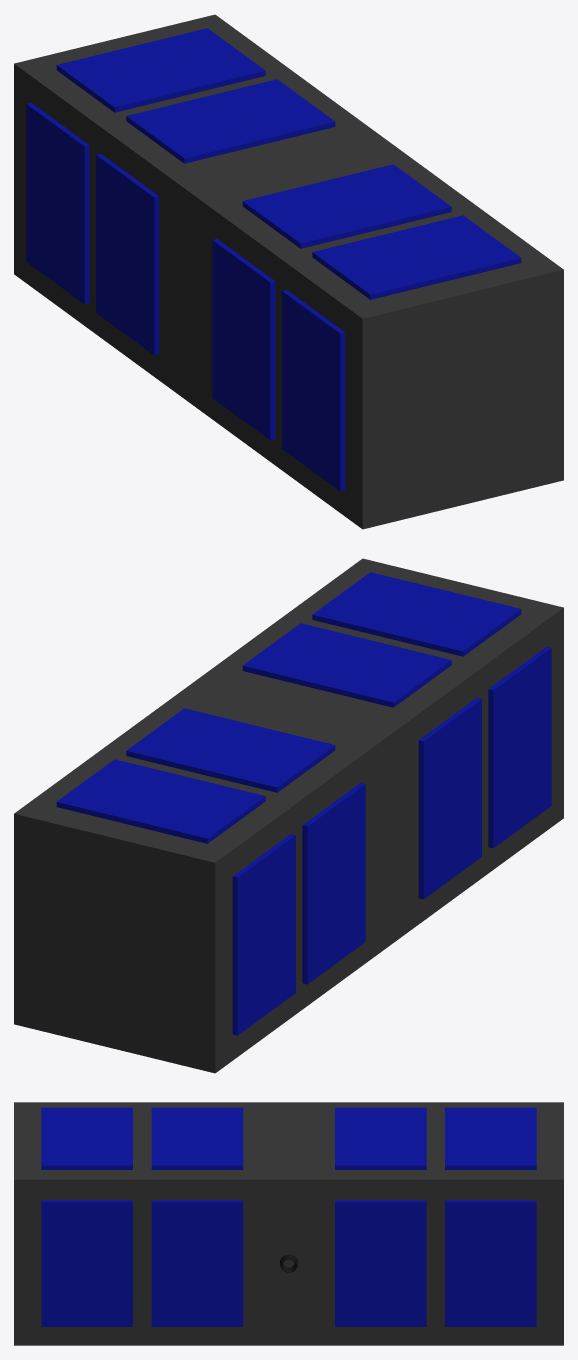
Rendered from cubesat.glb.
The picture shows the model from 3 angles, top to bottom: view 1: azimuth 30°, elevation 25°; view 2: azimuth 150°, elevation 25°; view 3: azimuth 270°, elevation 25°; orthographic projection. The views are drawn at different scales.
Visible parts, largest first — view 1: Bus; view 2: Bus; view 3: Bus.
Boxes of the visible parts, left/top/right/bottom form: Bus: left=14, top=14, right=563, bottom=529; Bus: left=14, top=558, right=563, bottom=1073; Bus: left=14, top=1102, right=563, bottom=1345.
Bounding box in the file's own units: 0.2125 × 0.21 × 0.6.
